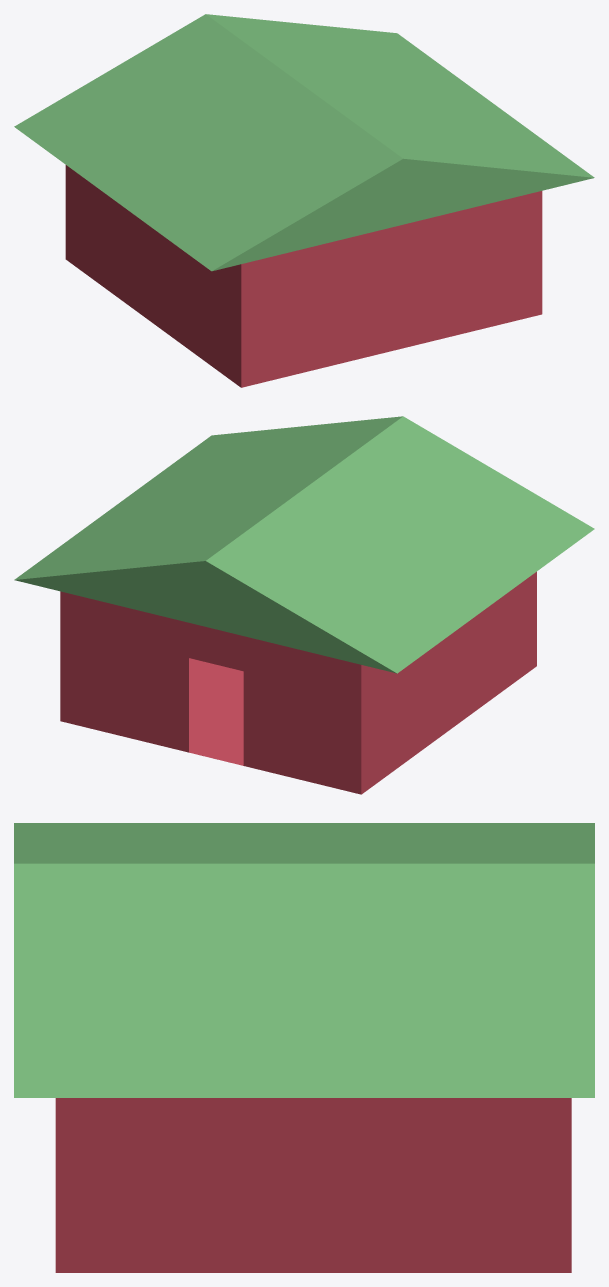
The model's file is Lodge.glb.
3 views of the same model, one above another, from view 1: azimuth 30°, elevation 25°; view 2: azimuth 150°, elevation 25°; view 3: azimuth 270°, elevation 25° (orthographic). The views are drawn at different scales.
Visible parts, largest first — view 1: Mesh_Mesh_head_geo.001_lambert2SG.001; view 2: Mesh_Mesh_head_geo.001_lambert2SG.001; view 3: Mesh_Mesh_head_geo.001_lambert2SG.001.
Boxes of the visible parts, x1,y1,x2,y2 form: Mesh_Mesh_head_geo.001_lambert2SG.001: (14,14,594,387); Mesh_Mesh_head_geo.001_lambert2SG.001: (14,416,594,794); Mesh_Mesh_head_geo.001_lambert2SG.001: (14,823,594,1272).
Bounding box in the file's own units: 140 × 71 × 125.
